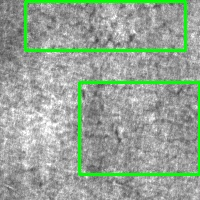crazing: (79, 82, 199, 174), (25, 1, 185, 50)
